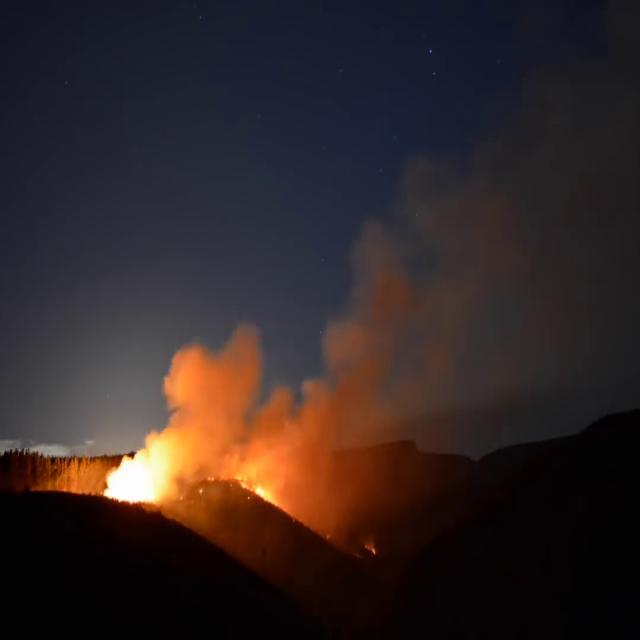Fire: (104, 448, 174, 503), (234, 472, 276, 508), (363, 542, 375, 556)
Smoke: (104, 52, 636, 542), (304, 147, 520, 460), (293, 215, 412, 430), (164, 297, 266, 434)
